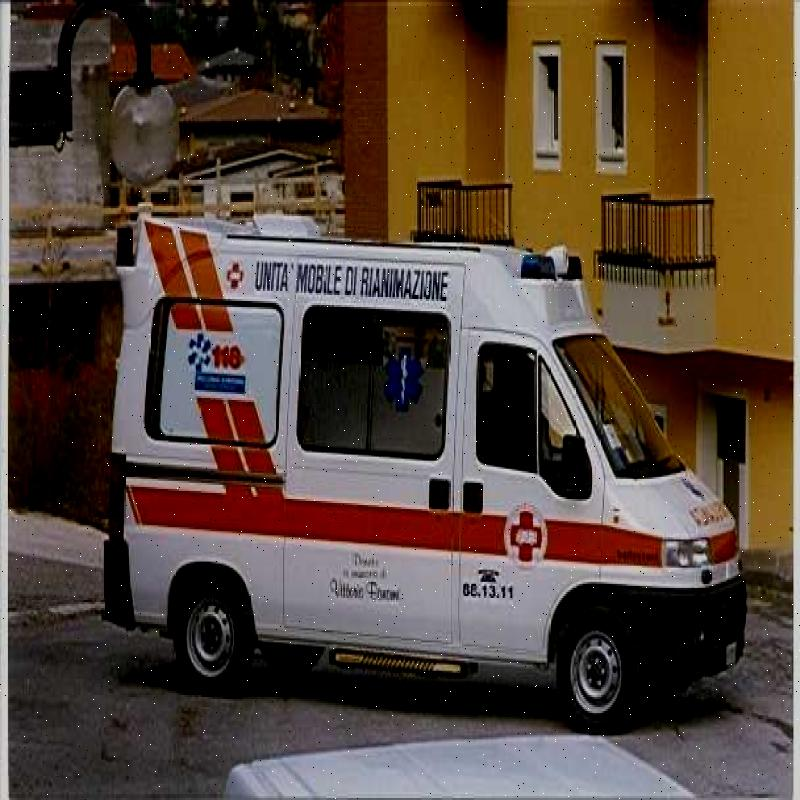AmbulanceSiren: (517, 234, 589, 292)
